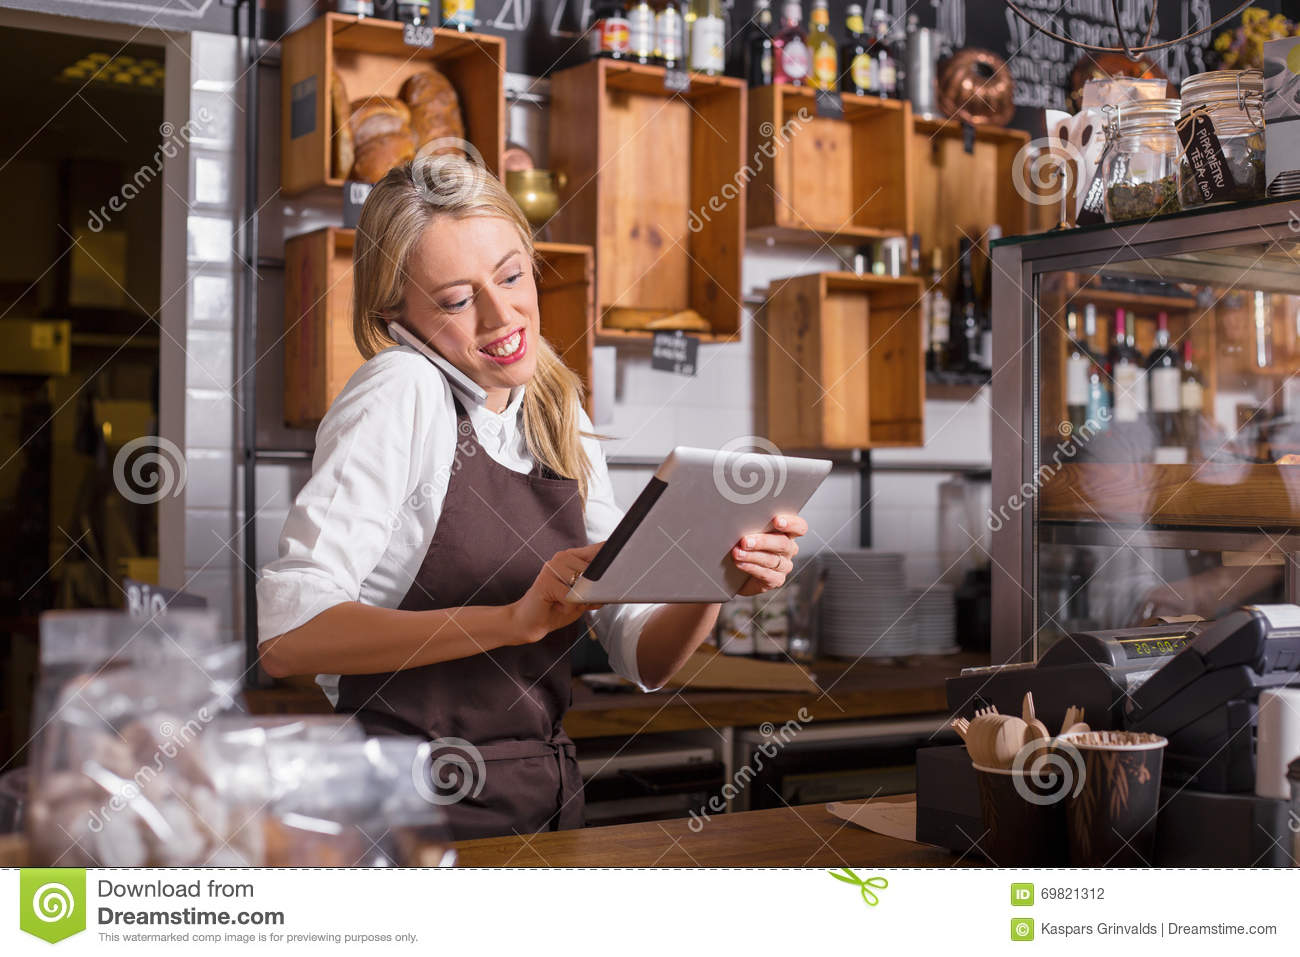phone: (386, 316, 488, 408)
talk: (377, 250, 542, 410)
